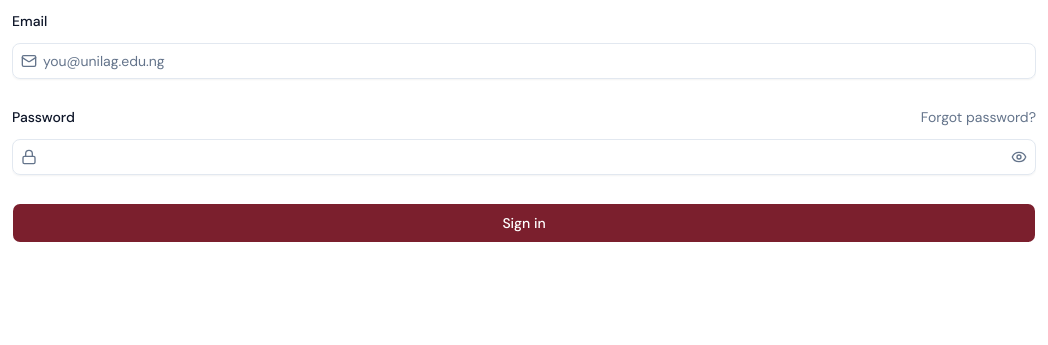
Test case: LoginForm › shows the OTP form when mfa_required is true
This screenshot has width=1048, height=345.
Type "ada@unilag.edu.ng" into the field labelled "Email".
click(536, 61); type("ada@unilag.edu.ng")  # box x1=37 y1=43 x2=1035 y2=79
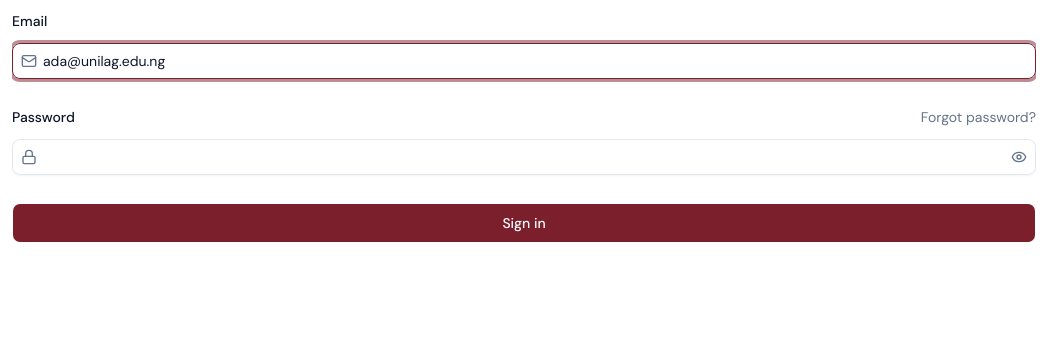
Type "Test@1234!" into the password field labelled "Password".
click(522, 157); type("Test@1234!")  # box x1=37 y1=139 x2=1007 y2=175
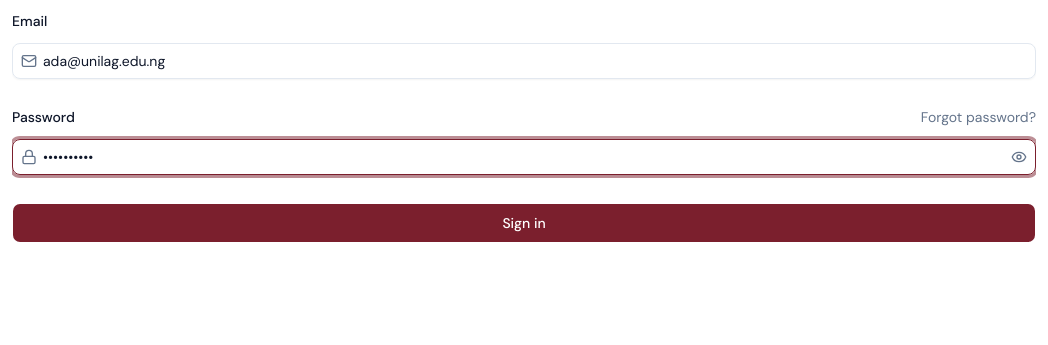
Click the button "Sign in".
click(524, 223)  # box x1=12 y1=203 x2=1036 y2=243
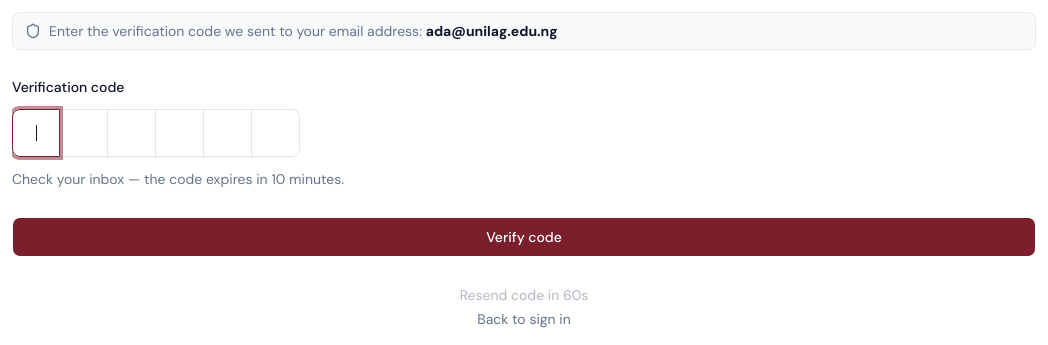
Expected: the field labelled "Verification code" is shown, x1=12 y1=109 x2=300 y2=157
